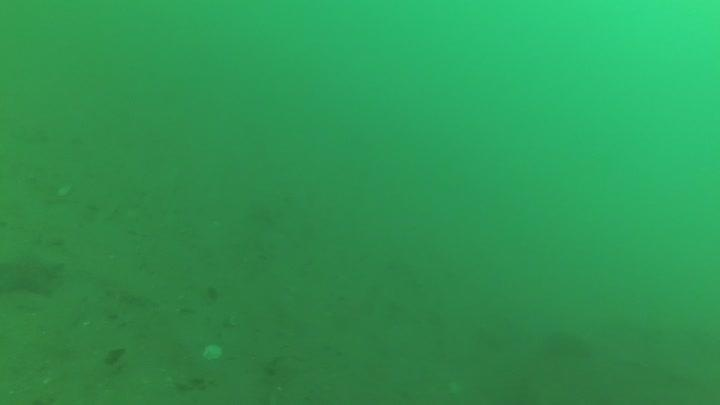scallop: (200, 342, 225, 363)
starfish: (1, 243, 67, 301)
